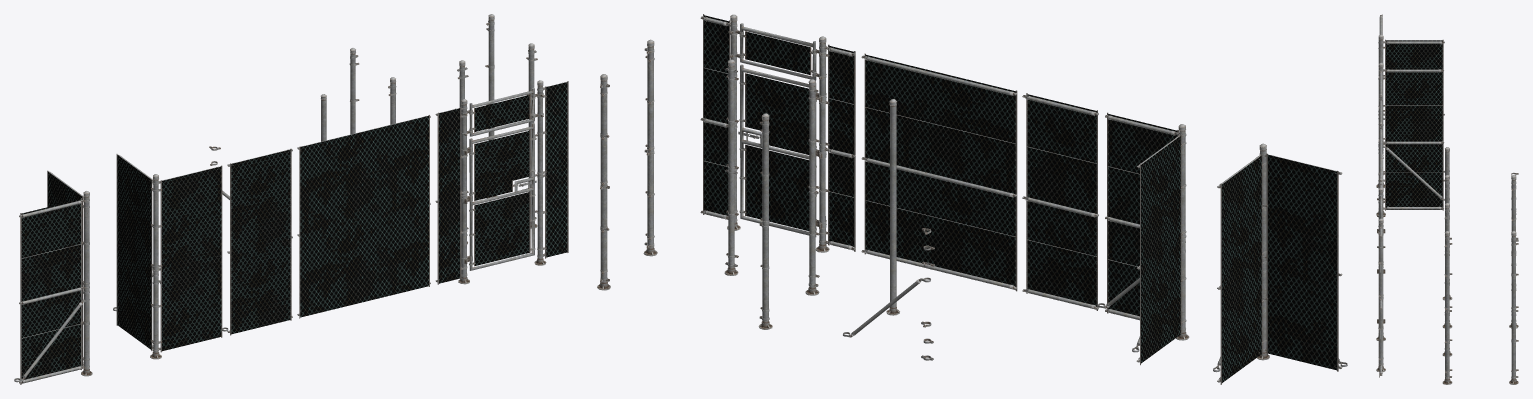
The model's file is modular_chainlink_fence_2k.gltf.
3 views of the same model, side by side, from view 1: azimuth 30°, elevation 25°; view 2: azimuth 150°, elevation 25°; view 3: azimuth 270°, elevation 25° (orthographic). The views are drawn at different scales.
Parts seen in each view (by area): view 1: modular_chainlink_fence_double, modular_chainlink_fence_corner_outer, modular_chainlink_fence_corner_inner, modular_chainlink_fence_door_frame, modular_chainlink_fence, modular_chainlink_fence_door_gate, modular_chainlink_fence_start_01_corner_02, modular_chainlink_fence_start_01_corner_01, modular_chainlink_fence_end_02; view 2: modular_chainlink_fence_double, modular_chainlink_fence_corner_inner, modular_chainlink_fence_corner_outer, modular_chainlink_fence_door_frame, modular_chainlink_fence, modular_chainlink_fence_door_gate, modular_chainlink_fence_start_01_corner_02, modular_chainlink_post_middle, modular_chainlink_fence_end_01, modular_chainlink_fence_start_01_corner_01, modular_chainlink_fence_end_02, modular_chainlink_fence_post; view 3: modular_chainlink_fence_corner_outer, modular_chainlink_fence_corner_inner, modular_chainlink_fence_door_frame, modular_chainlink_fence_start_01_corner_02, modular_chainlink_fence_start_01_corner_01, modular_chainlink_fence_end_02, modular_chainlink_fence_double, modular_chainlink_post_middle, modular_chainlink_fence_end_01, modular_chainlink_fence_post.
Boxes of the visible parts, <box> form: modular_chainlink_fence_double: <box>297,115,430,318</box>; modular_chainlink_fence_corner_outer: <box>113,154,228,359</box>; modular_chainlink_fence_corner_inner: <box>14,170,92,384</box>; modular_chainlink_fence_door_frame: <box>435,80,568,284</box>; modular_chainlink_fence: <box>227,148,292,335</box>; modular_chainlink_fence_door_gate: <box>469,123,535,270</box>; modular_chainlink_fence_start_01_corner_02: <box>485,14,496,198</box>; modular_chainlink_fence_start_01_corner_01: <box>526,43,537,228</box>; modular_chainlink_fence_end_02: <box>349,48,359,134</box>; modular_chainlink_fence_double: <box>861,53,1017,291</box>; modular_chainlink_fence_corner_inner: <box>1213,143,1347,384</box>; modular_chainlink_fence_corner_outer: <box>1097,112,1189,365</box>; modular_chainlink_fence_door_frame: <box>700,14,855,252</box>; modular_chainlink_fence: <box>1022,93,1098,310</box>; modular_chainlink_fence_door_gate: <box>739,64,816,236</box>; modular_chainlink_fence_start_01_corner_02: <box>597,74,610,290</box>; modular_chainlink_post_middle: <box>724,59,738,275</box>; modular_chainlink_fence_end_01: <box>805,79,819,295</box>; modular_chainlink_fence_start_01_corner_01: <box>643,39,657,256</box>; modular_chainlink_fence_end_02: <box>758,113,772,329</box>; modular_chainlink_fence_post: <box>886,99,899,315</box>; modular_chainlink_fence_corner_outer: <box>1376,62,1449,215</box>; modular_chainlink_fence_corner_inner: <box>1376,14,1449,188</box>; modular_chainlink_fence_door_frame: <box>1376,182,1385,377</box>; modular_chainlink_fence_start_01_corner_02: <box>1509,231,1518,384</box>; modular_chainlink_fence_start_01_corner_01: <box>1442,231,1452,384</box>; modular_chainlink_fence_end_02: <box>1509,175,1518,328</box>; modular_chainlink_fence_double: <box>1379,126,1382,183</box>; modular_chainlink_post_middle: <box>1442,203,1452,356</box>; modular_chainlink_fence_end_01: <box>1442,175,1452,328</box>; modular_chainlink_fence_post: <box>1442,147,1452,300</box>.
Bounding box in the file's own units: 8.11 × 2.52 × 2.15.
2 materials, 2 textured.
